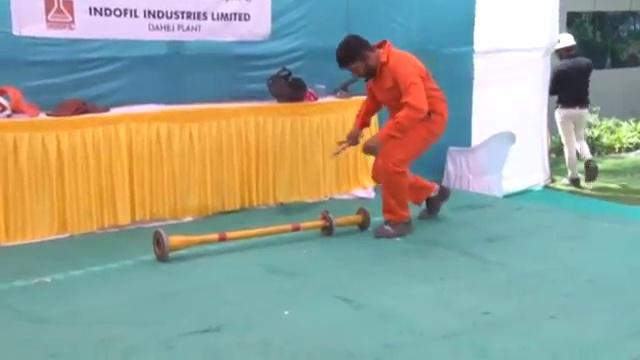helmet: (552, 29, 578, 50)
helmet_off: (335, 35, 379, 82)
helmet_on: (551, 30, 579, 61)
person: (333, 33, 448, 242), (547, 28, 599, 185)
